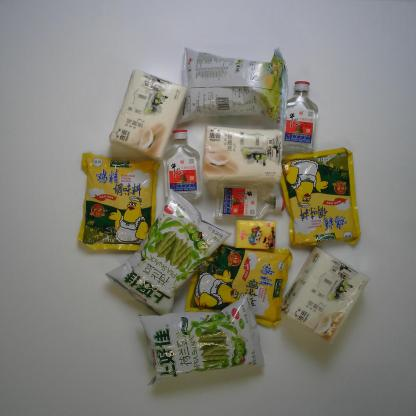Alcohol: (210, 179, 289, 224), (277, 78, 320, 154), (161, 127, 205, 200)
Puffed Food: (100, 183, 236, 319), (133, 291, 267, 391), (176, 46, 292, 130)
Seasoner: (72, 147, 164, 260), (183, 239, 294, 330), (278, 146, 364, 251)
Tissue: (275, 243, 373, 345), (106, 66, 190, 164), (200, 123, 284, 186), (230, 215, 279, 253)
